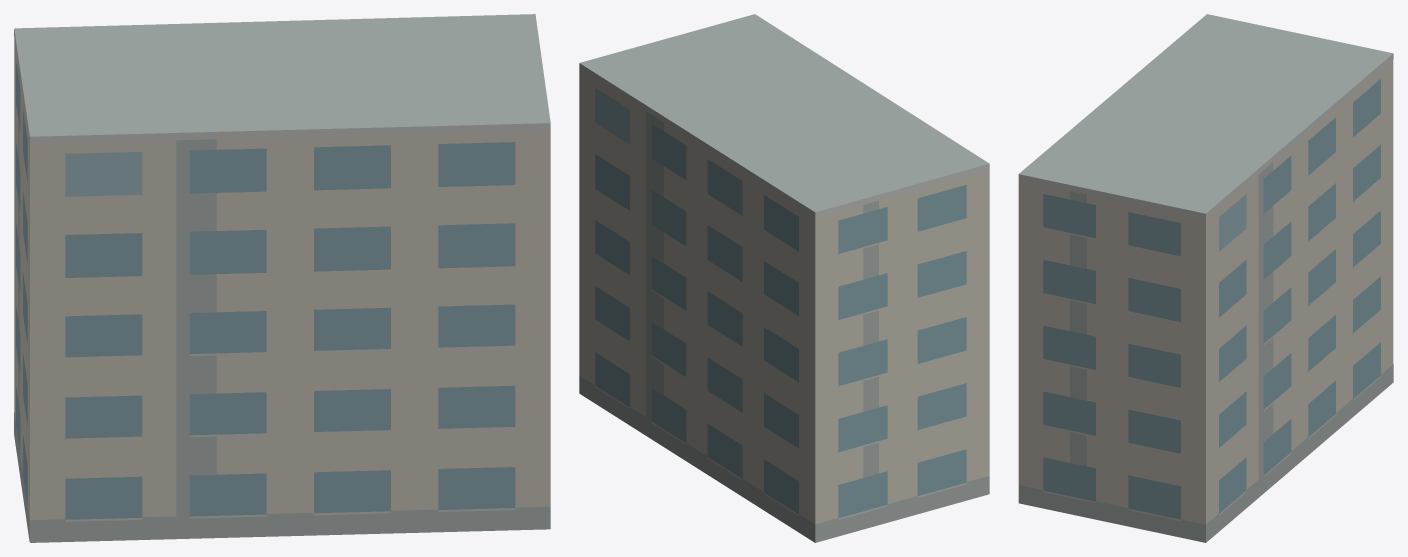
File: survey-upis-32884302.glb
3 views of the same model, side by side, from view 1: azimuth 30°, elevation 25°; view 2: azimuth 150°, elevation 25°; view 3: azimuth 270°, elevation 25° (orthographic). The views are drawn at different scales.
Visible parts, largest first — view 1: survey-upis-32884302.tmp; view 2: survey-upis-32884302.tmp; view 3: survey-upis-32884302.tmp.
Boxes of the visible parts, x1,y1,x2,y2 form: survey-upis-32884302.tmp: (14, 14, 550, 542); survey-upis-32884302.tmp: (579, 14, 989, 542); survey-upis-32884302.tmp: (1018, 14, 1393, 542).
Size of the model in its own units: 17.31 by 13.3 by 13.74.
